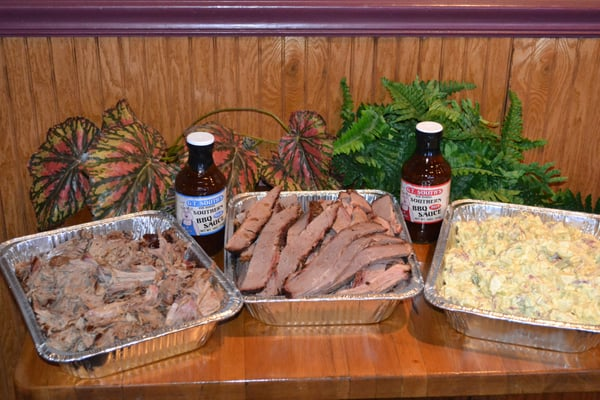sushi: (1, 211, 245, 368)
